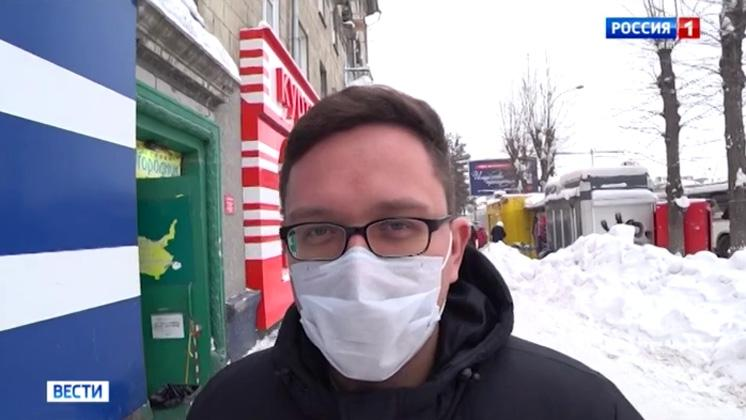mask: (286, 152, 454, 379)
